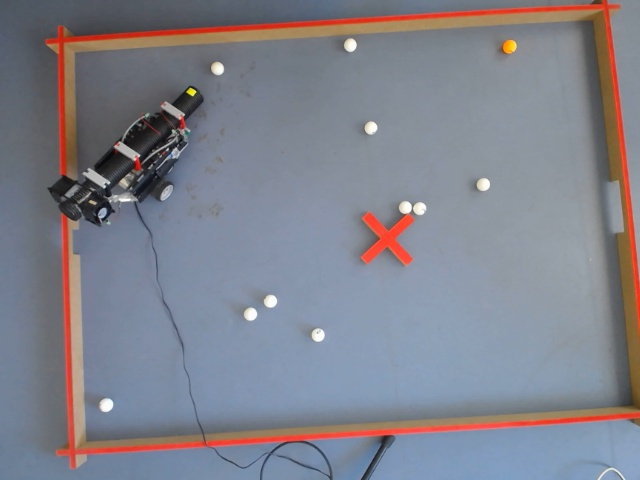orange: (500, 37, 520, 56)
robot: (52, 86, 204, 222)
white: (362, 119, 380, 136), (342, 36, 359, 54), (474, 176, 492, 193), (209, 60, 227, 77), (263, 292, 279, 309), (242, 306, 259, 322), (310, 326, 326, 343), (412, 200, 428, 216), (400, 199, 416, 215), (99, 397, 113, 413), (398, 199, 412, 215)
